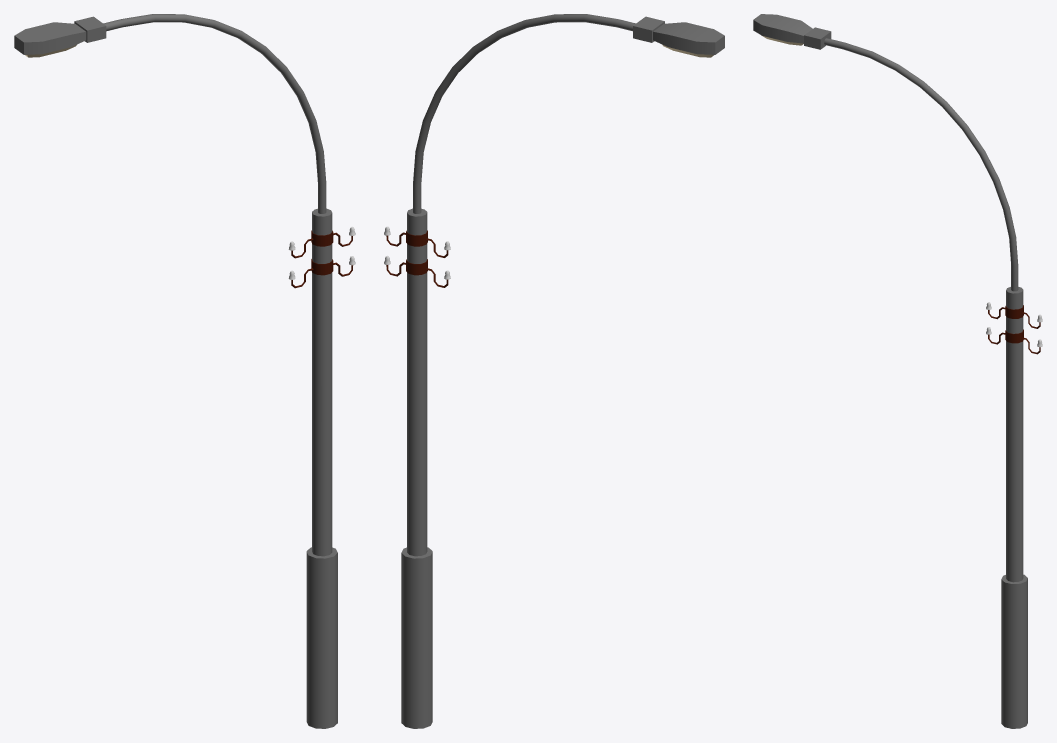
The model's file is Lamppost3.fbx.
3 renders of one model, left to right at view 1: azimuth 30°, elevation 25°; view 2: azimuth 150°, elevation 25°; view 3: azimuth 330°, elevation 25°, orthographic. The views are drawn at different scales.
Visible parts, largest first — view 1: Pillar.008; view 2: Pillar.008; view 3: Pillar.008.
Boxes of the visible parts, box(x1,y1,x2,y2) form: Pillar.008: box(14, 14, 355, 728); Pillar.008: box(384, 14, 724, 728); Pillar.008: box(753, 14, 1042, 728).
Size of the model in its own units: 369 by 796 by 32.54.
